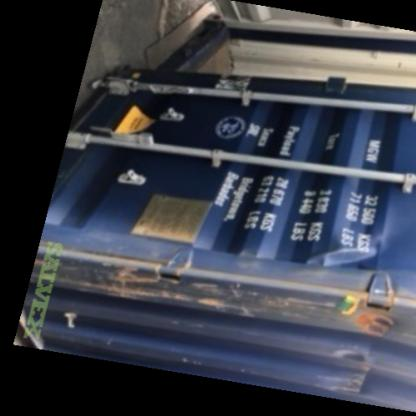Damage: (60, 242, 406, 334), (322, 344, 386, 399)
